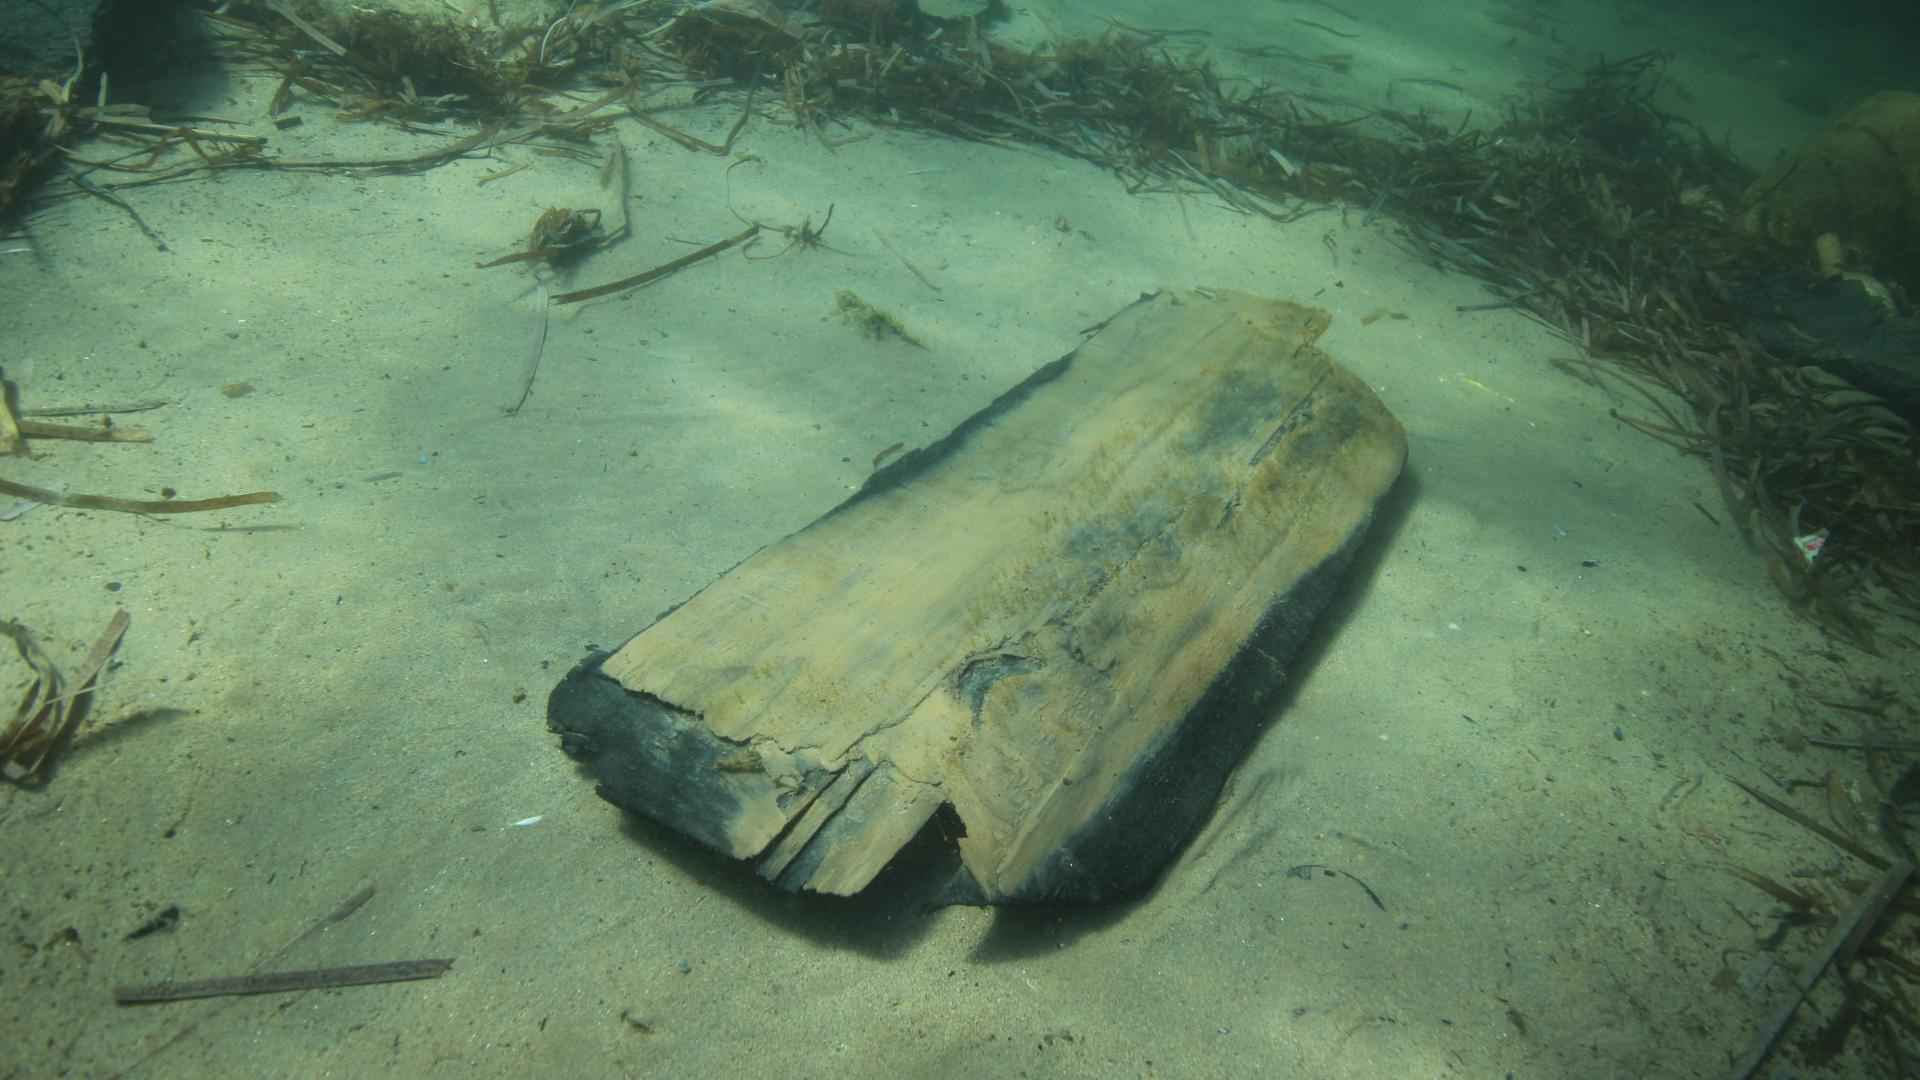wood: (547, 287, 1408, 903)
